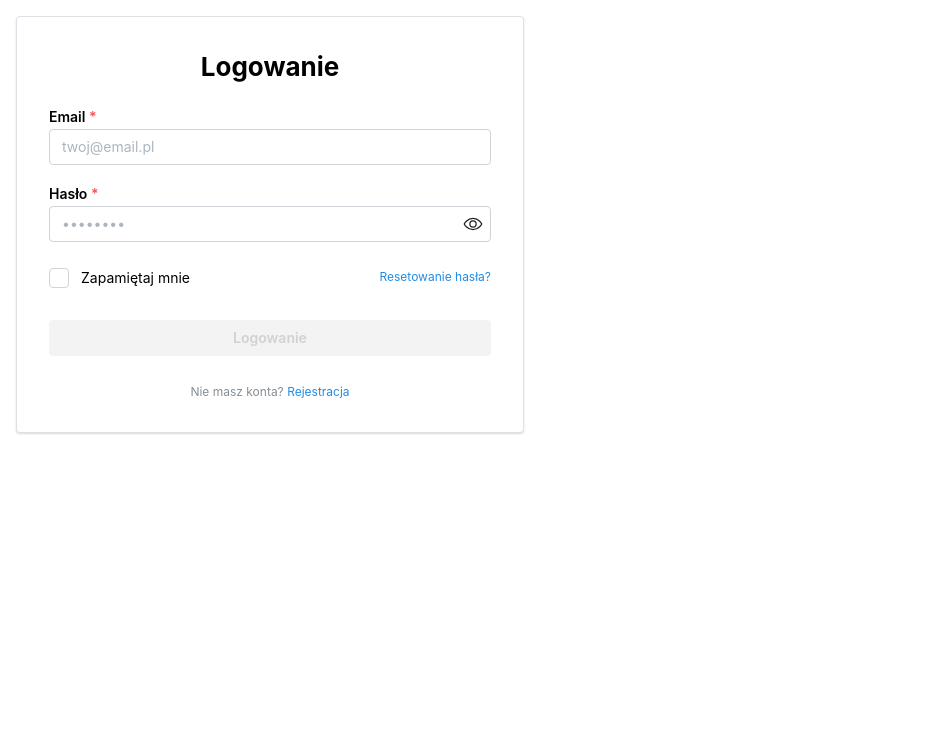
it: authentication UI › requires valid login fields and advances to the verification step on success
Expected: the button "Logowanie" is disabled, [49,320,491,356]
Type "runner@example.com" into the field labelled "Email *" at (270, 147), box [49,129,491,165]
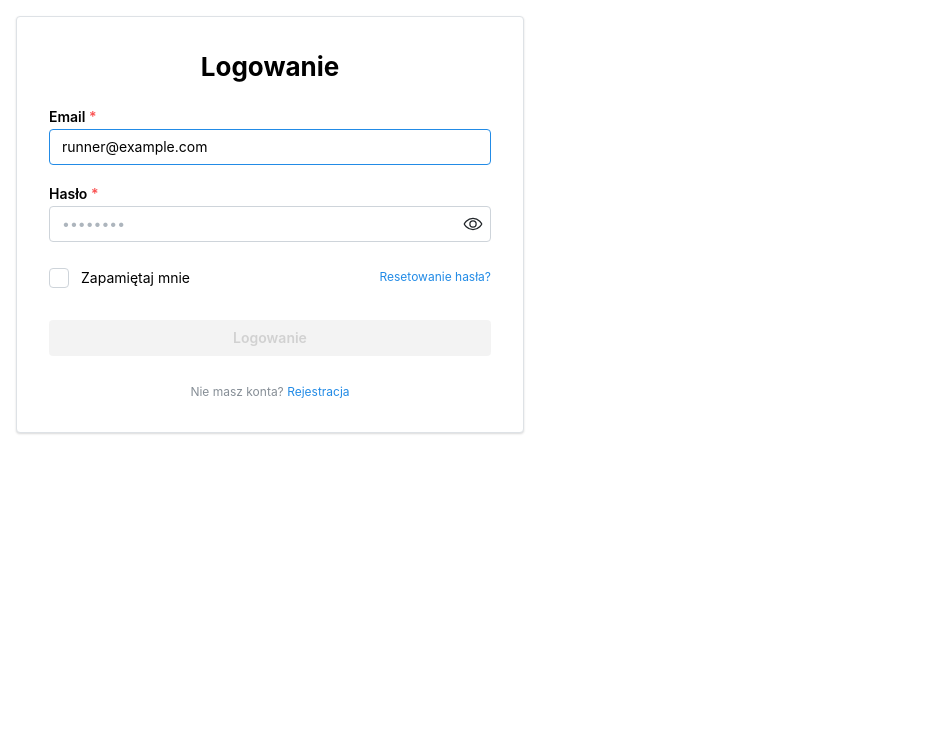
Type "secret123" into the password field labelled "Hasło *" at (270, 224), box [50,207,490,241]
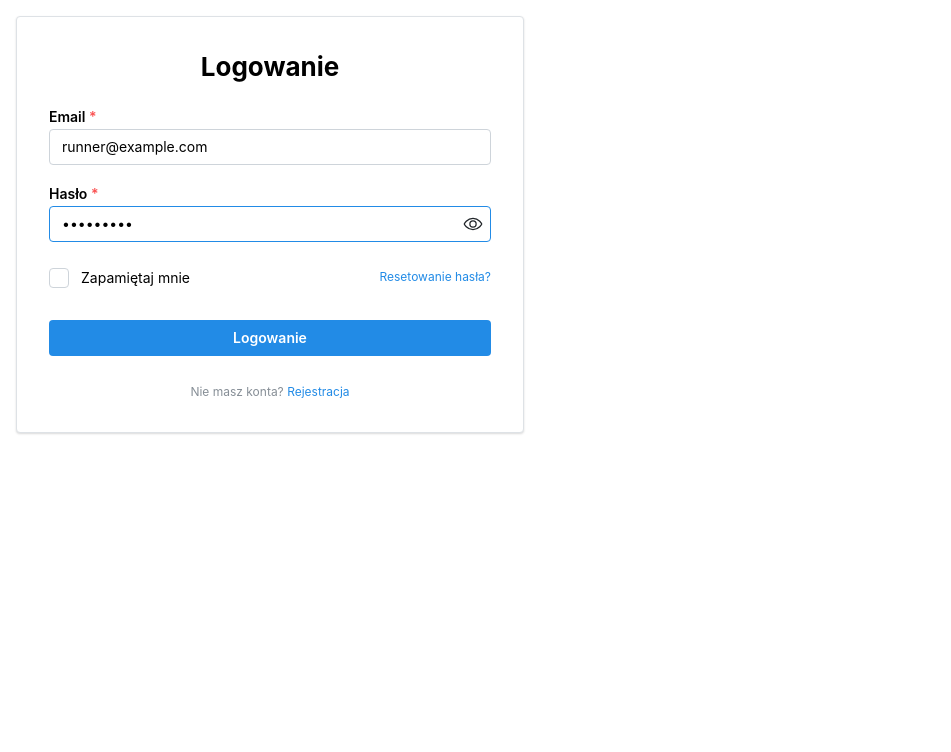
Click the button "Logowanie" at (270, 338), box [49,320,491,356]
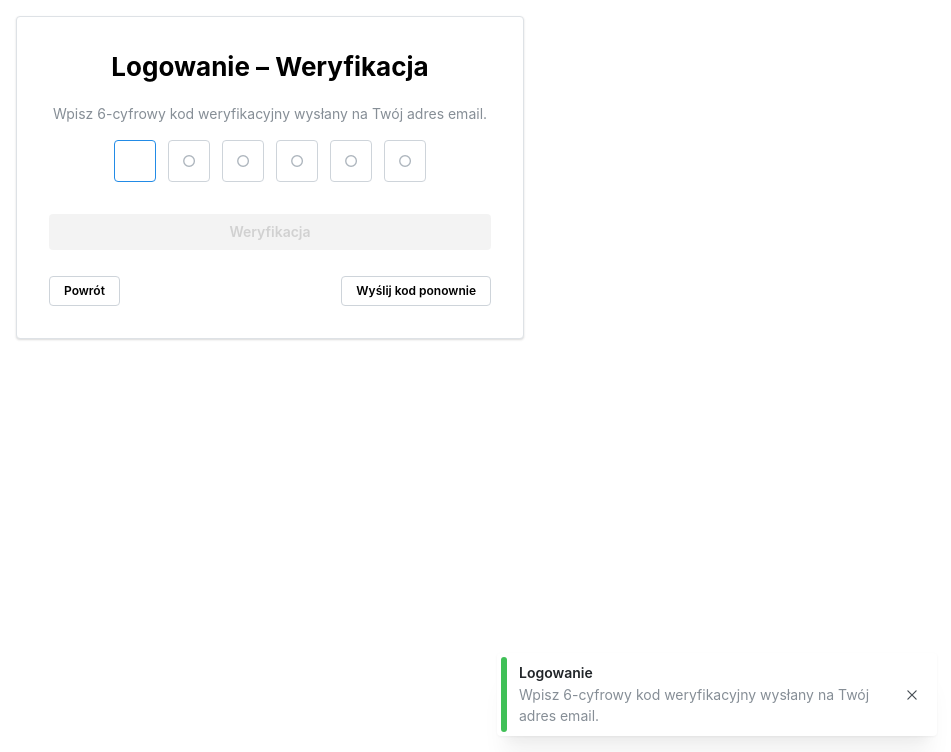
Expected: the heading "Logowanie – Weryfikacja" is shown, [111,51,429,82]
Expected: the button "Weryfikacja" is disabled, [49,214,491,250]
